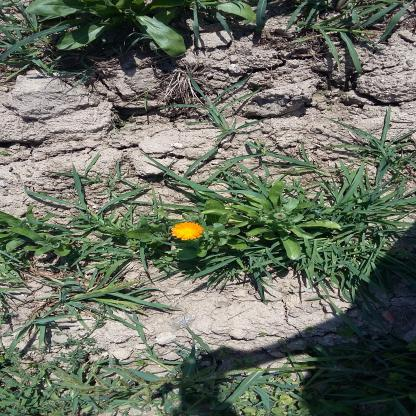marigold: (174, 171, 194, 204)
